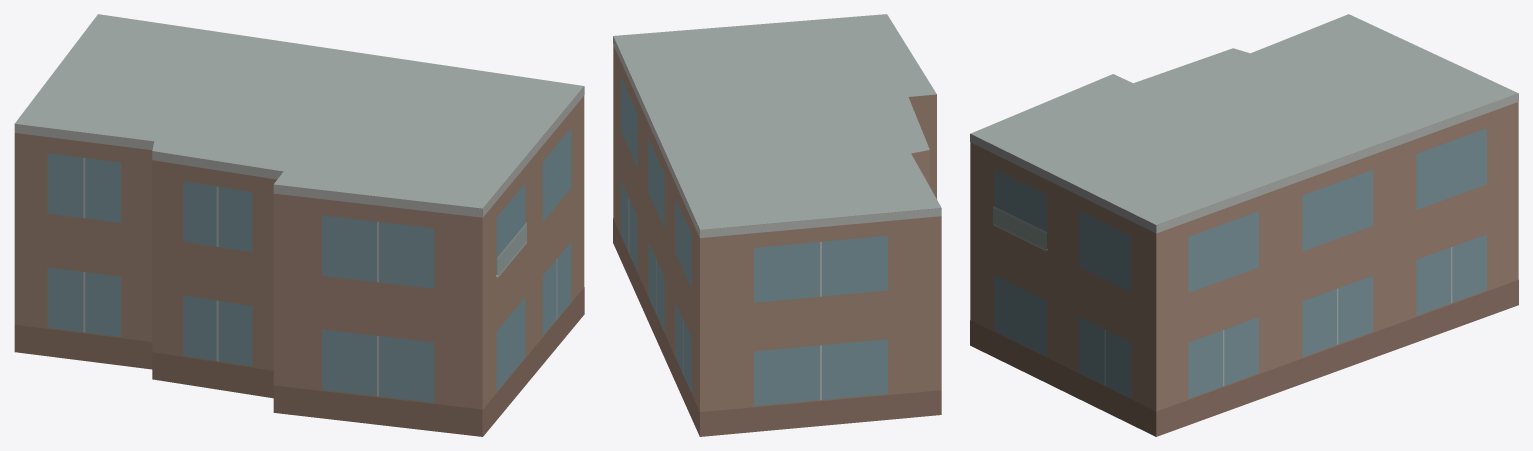
Rendered from survey-upis-32949714.glb.
3 views of the same model, side by side, from view 1: azimuth 30°, elevation 25°; view 2: azimuth 150°, elevation 25°; view 3: azimuth 270°, elevation 25° (orthographic). The views are drawn at different scales.
Visible parts, largest first — view 1: survey-upis-32949714.tmp; view 2: survey-upis-32949714.tmp; view 3: survey-upis-32949714.tmp.
Boxes of the visible parts, box(x1,y1,x2,y2) form: survey-upis-32949714.tmp: box(14, 14, 584, 436); survey-upis-32949714.tmp: box(613, 14, 941, 436); survey-upis-32949714.tmp: box(970, 14, 1518, 436).
Bounding box in the file's own units: 13.04 × 6.1 × 14.32.
